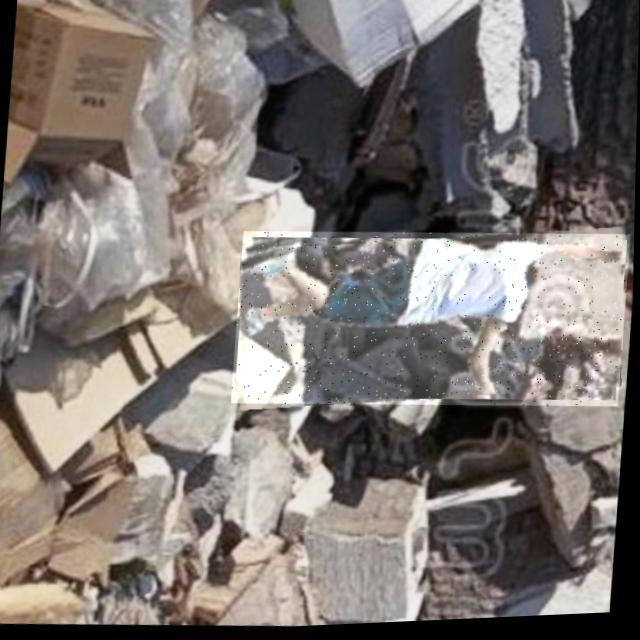Person in Rubble: (231, 220, 631, 426)
